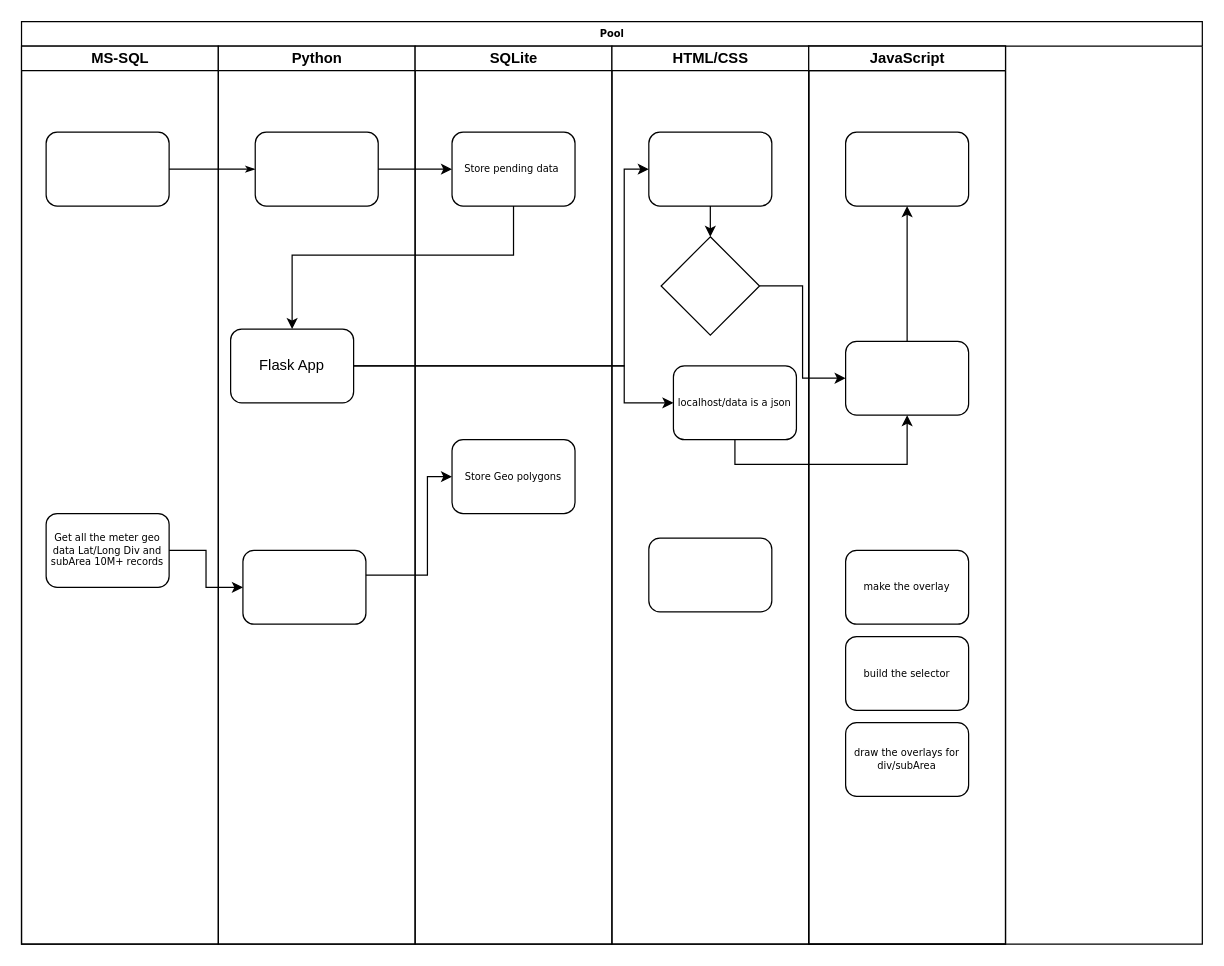
Image size: 1224x966. Some labels were removed from this diagram. Here are the shapes that lost their labels. From the top down, the centre of each, then its label:
At (x=107, y=168): "Pending Work Query".
At (x=316, y=168): "Pull pending work to df and convert to SQLite".
At (x=710, y=168): "Index.html is where the dashboard will live".
At (x=906, y=168): "Draw marker and clusters".
At (x=710, y=285): "Index call logic.js".
At (x=906, y=377): "Import json from localhost/data".
At (x=304, y=586): "Calculate the hull of the divs and subAreas for polygon overlays output SQLite".
At (x=710, y=574): "localhost/geopoly".
